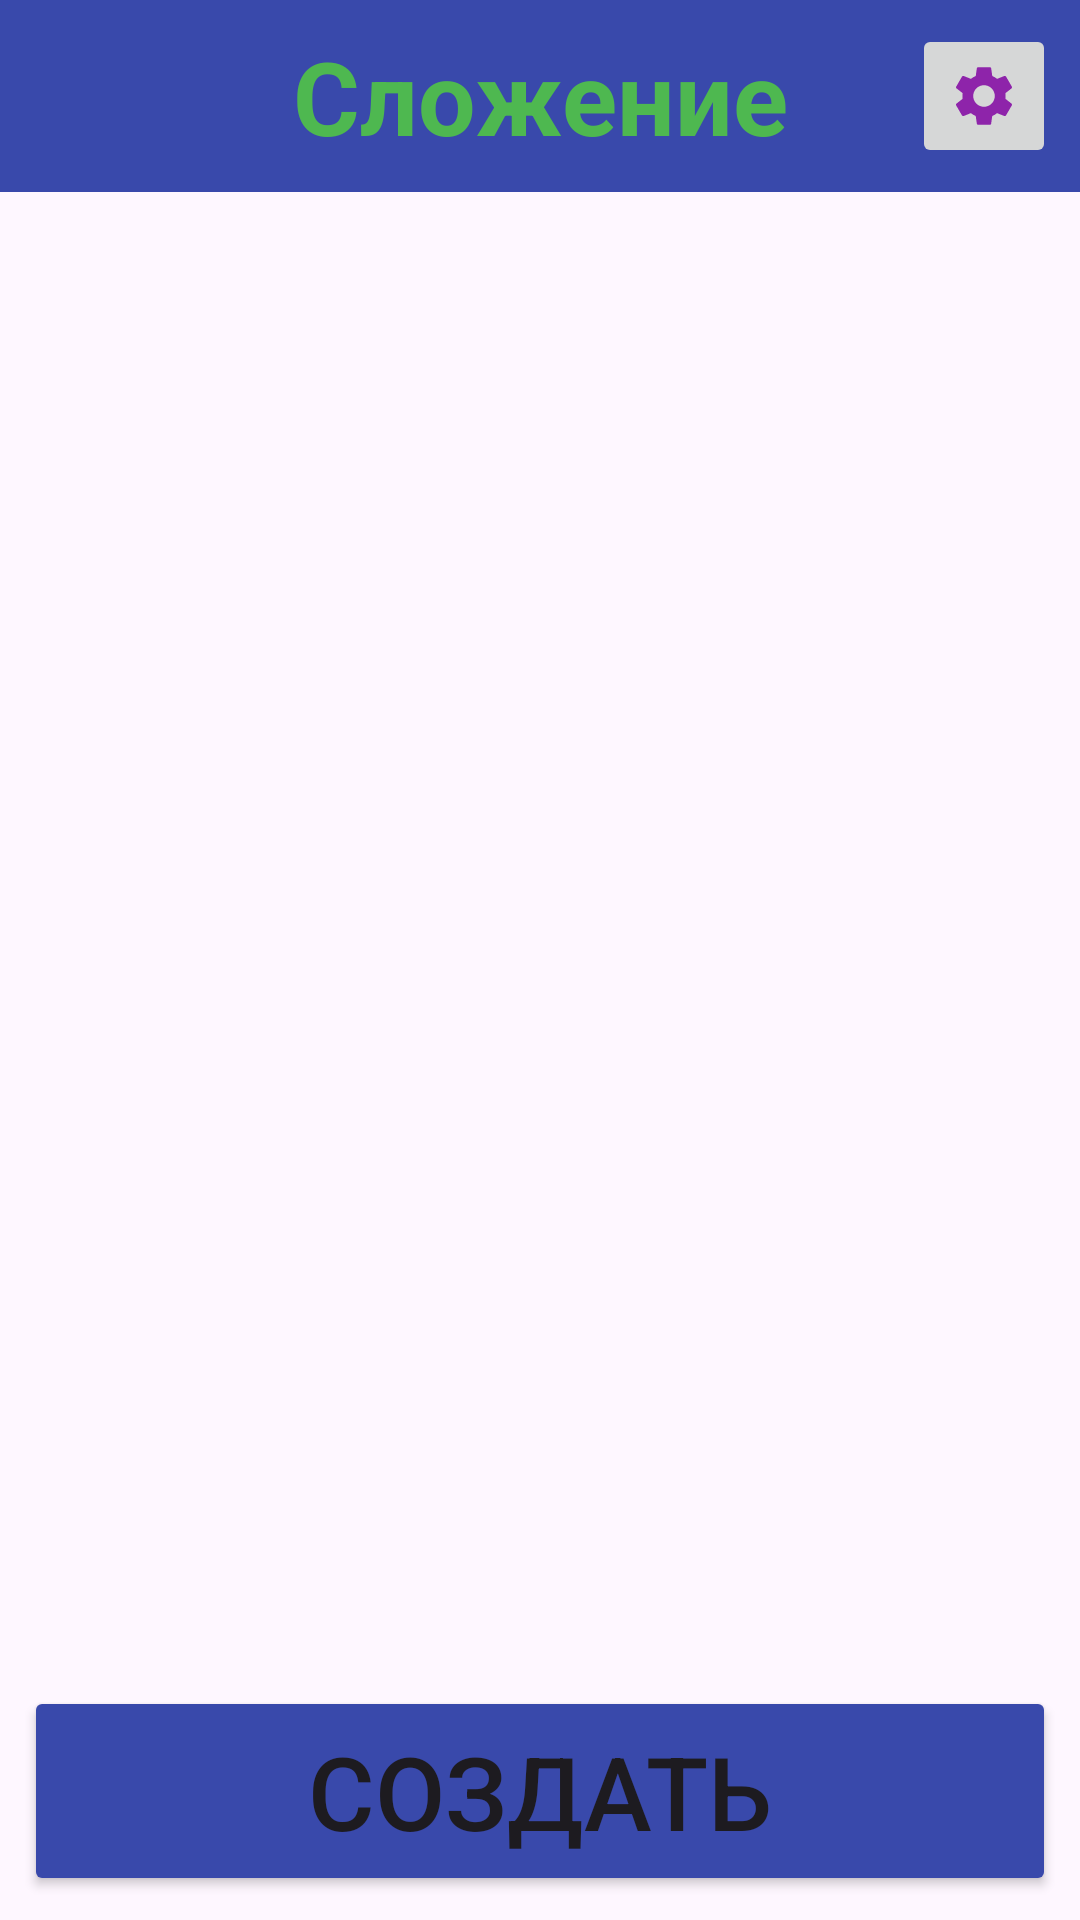

Icons on this 1080px×1920px Android screen, each with its box as (left=x1, top=y1, right=x2, bottom=y2):
Settings: (left=924, top=42, right=1044, bottom=150)
